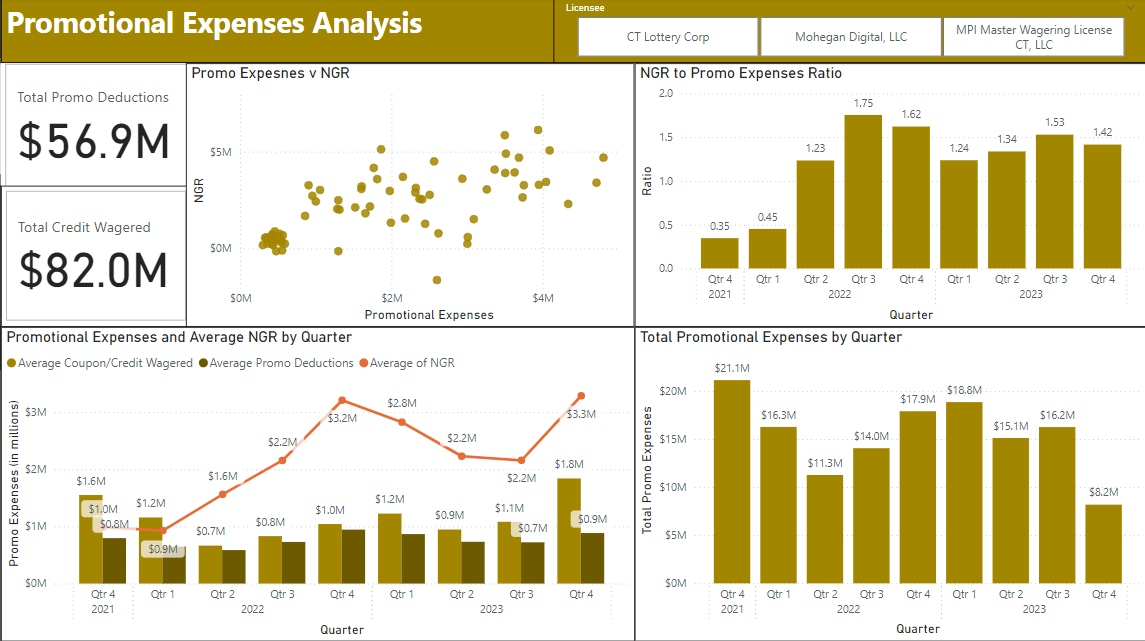

This screenshot's page, from the dashboard's own definition file:
{"tool":"powerbi","page":{"name":"Promotional Expenses Analysis","canvas":[1280,720],"ordinal":1},"visuals":[{"type":"lineClusteredColumnComboChart","title":"Promotional Expenses and Average Wagered Amount by Quarter","fields":{"Y":["Avg(online_bet online_sports_betting.Coup_credit_wag)","Avg(online_bet online_sports_betting.Promo_Deduct)"],"Category":["online_bet online_sports_betting.date.Variation.Date Hierarchy.Year","online_bet online_sports_betting.date.Variation.Date Hierarchy.Quarter"],"Y2":["Avg(online_bet online_sports_betting.NGR)"]},"box":[0,368.2,707.9,351.5],"z":0},{"type":"cardVisual","fields":{"Data":["Sum(online_bet online_sports_betting.Promo_Deduct)"]},"box":[0,69.9,213.7,151.6],"z":1},{"type":"cardVisual","fields":{"Data":["Sum(online_bet online_sports_betting.Coup_credit_wag)"]},"box":[0,210.7,213.7,157.5],"z":2},{"type":"textbox","box":[0,0,624.2,73.8],"z":3},{"type":"slicer","fields":{"Values":["online_bet online_sports_betting.Licensee"]},"box":[617.4,0,662.6,73.8],"z":4},{"type":"scatterChart","title":"Promo Expesnes v NGR","fields":{"X":["online_bet online_sports_betting.Promo_Expenses"],"Y":["Sum(online_bet online_sports_betting.NGR)"]},"box":[206.8,73.8,501.2,294.4],"z":5},{"type":"clusteredColumnChart","title":"NGR to Promo Expenses Ratio","fields":{"Y":["Avg(online_bet online_sports_betting.NGR_to_Promo)"],"Category":["online_bet online_sports_betting.date.Variation.Date Hierarchy.Year","online_bet online_sports_betting.date.Variation.Date Hierarchy.Quarter"]},"box":[707.9,73.8,572.1,294.4],"z":6},{"type":"clusteredColumnChart","title":"Total Promotional Expenses by  Quarter","fields":{"Y":["Sum(online_bet online_sports_betting.Promo_Expenses)"],"Category":["online_bet online_sports_betting.date.Variation.Date Hierarchy.Year","online_bet online_sports_betting.date.Variation.Date Hierarchy.Quarter"]},"box":[707.9,368.2,572.1,351.5],"z":7}]}

Visuals, with their boxes in screenshot pixels (x1, y1, x2, y2), scaled from the page's 1280x720 canvas onto the 1145x641 screenshot:
"Promotional Expenses and Average Wagered Amount by Quarter" lineClusteredColumnComboChart: 0 328 633 640
cardVisual - Sum(online_bet online_sports_betting.Promo_Deduct): 0 62 191 197
cardVisual - Sum(online_bet online_sports_betting.Coup_credit_wag): 0 188 191 328
textbox: 0 0 558 66
slicer - online_bet online_sports_betting.Licensee: 552 0 1144 66
"Promo Expesnes v NGR" scatterChart: 185 66 633 328
"NGR to Promo Expenses Ratio" clusteredColumnChart: 633 66 1144 328
"Total Promotional Expenses by  Quarter" clusteredColumnChart: 633 328 1144 640
